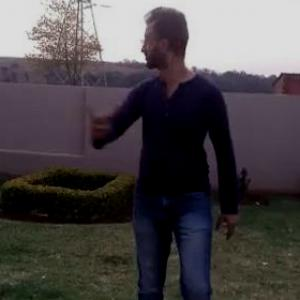takeoff-hand: (78, 94, 118, 148)
